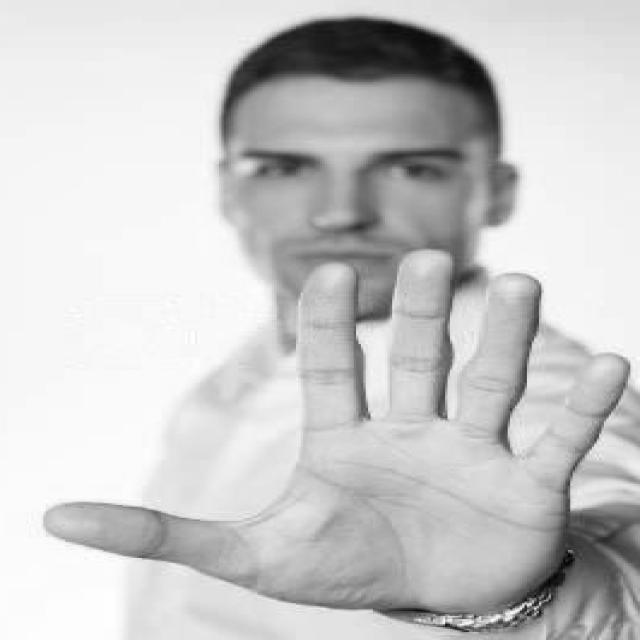stop: (30, 241, 637, 628)
